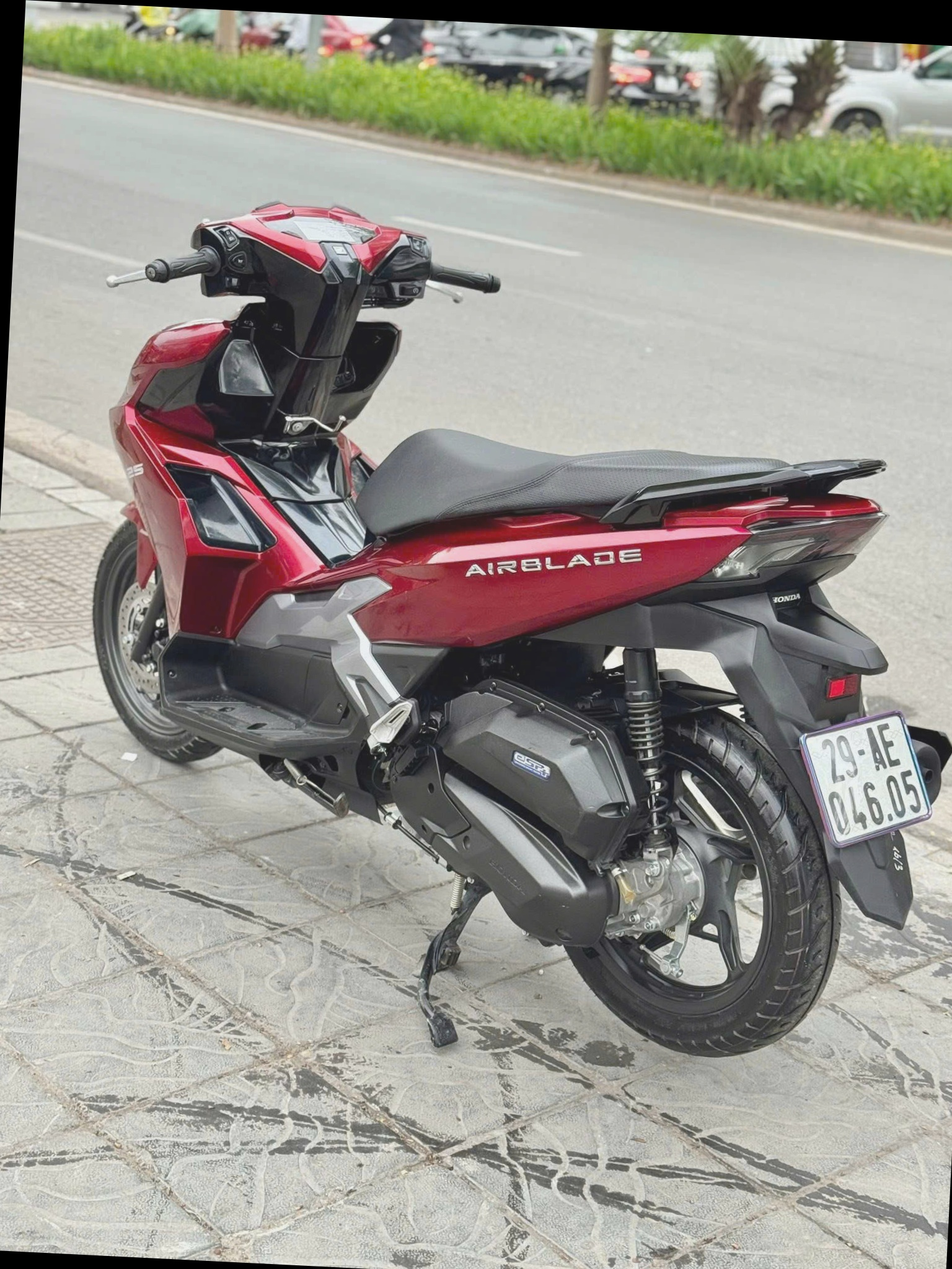Bien-so: (813, 689, 952, 833)
